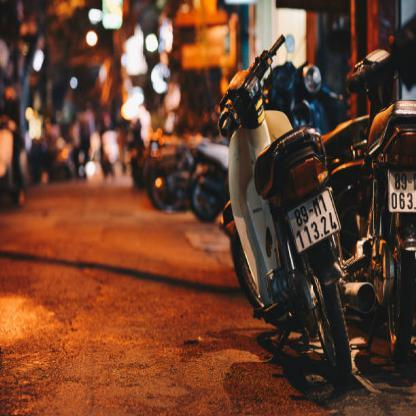Motorcycle: (207, 37, 359, 391), (339, 38, 416, 376)
